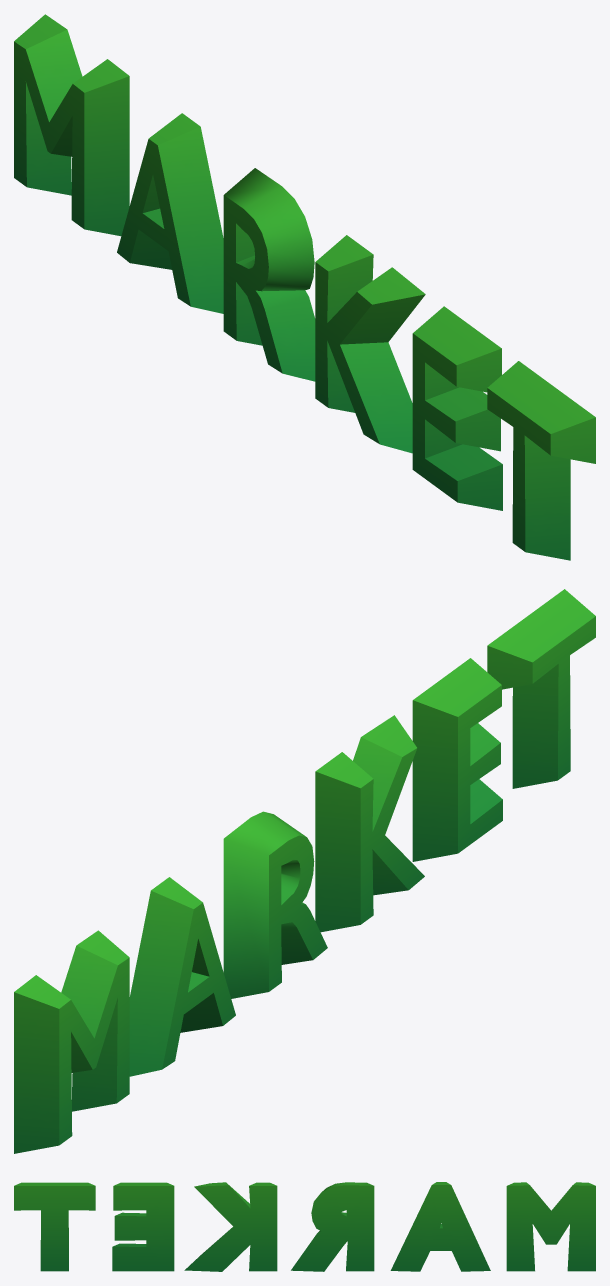
Rendered from MarketSign_1_A.glb.
3 views of the same model, one above another, from view 1: azimuth 30°, elevation 25°; view 2: azimuth 150°, elevation 25°; view 3: azimuth 270°, elevation 25° (orthographic). The views are drawn at different scales.
Parts seen in each view (by area): view 1: MarketSign_1_A; view 2: MarketSign_1_A; view 3: MarketSign_1_A.
Boxes of the visible parts, x1=… form: MarketSign_1_A: x1=14, y1=14, x2=595, y2=560; MarketSign_1_A: x1=14, y1=589, x2=595, y2=1153; MarketSign_1_A: x1=14, y1=1182, x2=595, y2=1271.
Bounding box in the file's own units: 0.5188 × 2.13 × 12.92.
2 materials, 2 textured.
